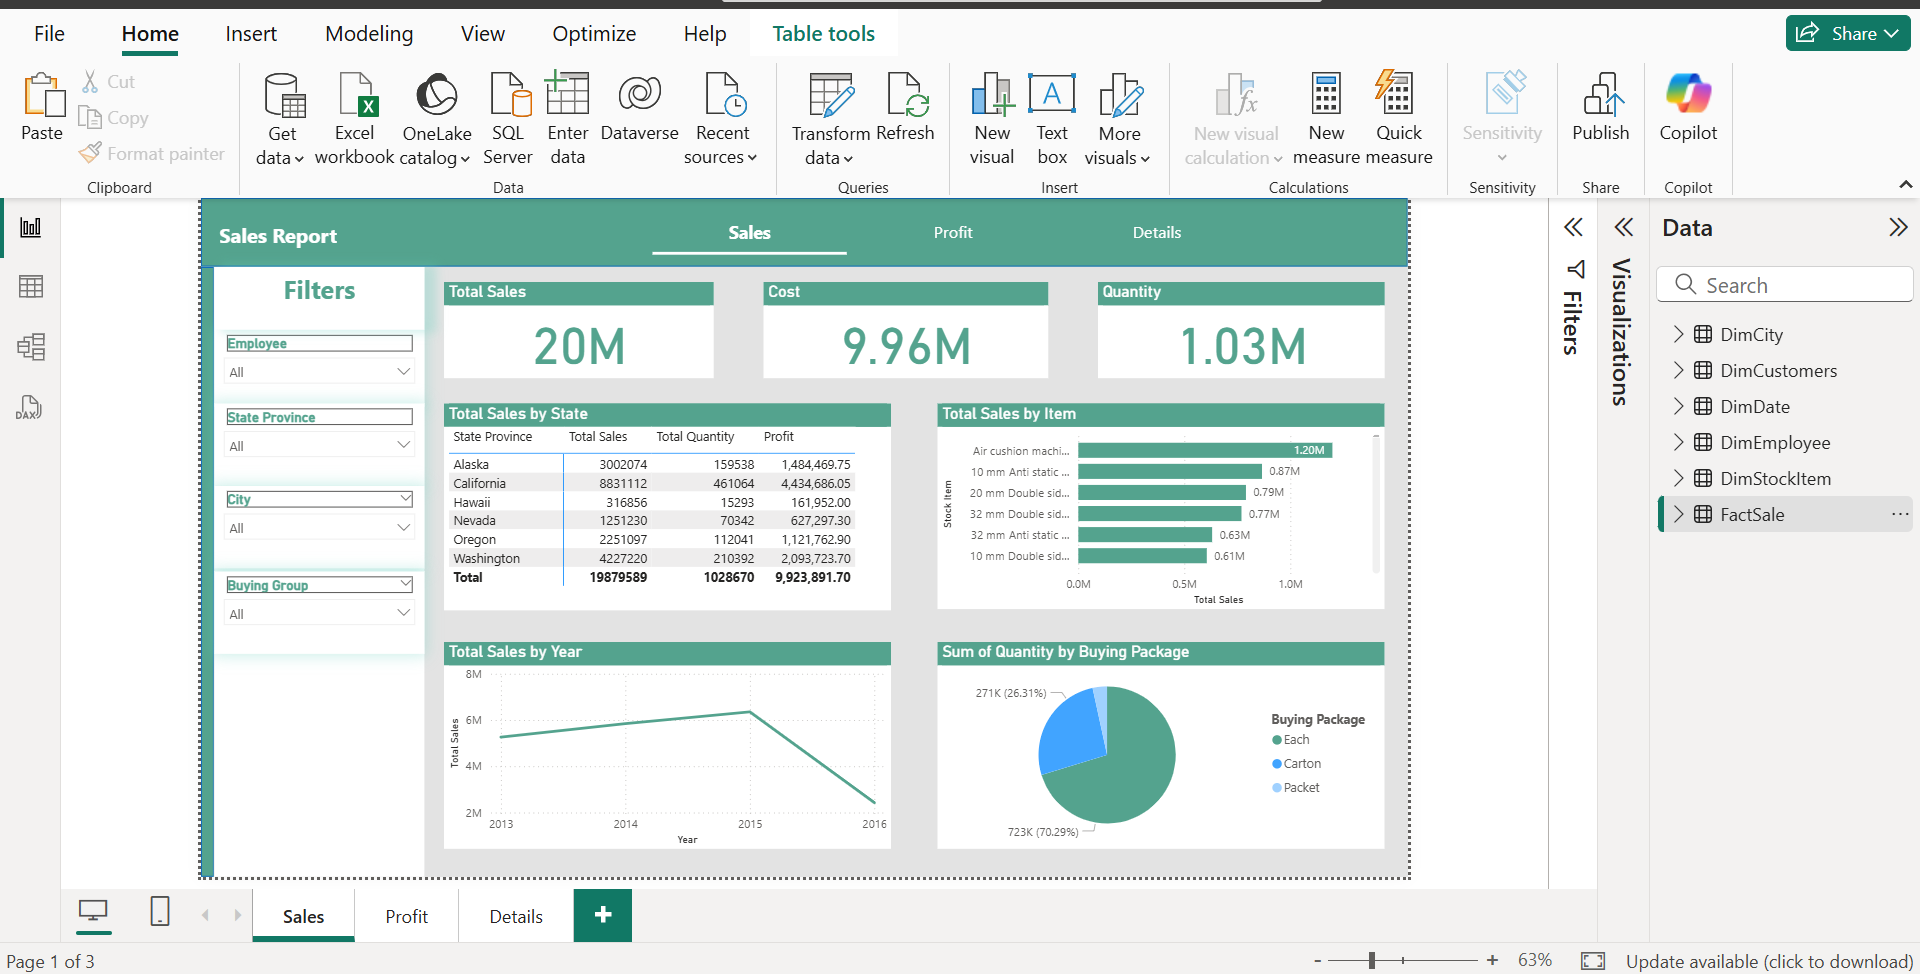

The page's visual inventory and layout, read from the dashboard file:
{"tool":"powerbi","page":{"name":"Sales","canvas":[1280,720],"ordinal":0},"visuals":[{"type":"shape","box":[0,0,1279.5,72.7],"z":0},{"type":"shape","box":[0,72.7,13.6,646.6],"z":1000},{"type":"shape","box":[13.6,72.7,222.6,646.6],"z":2000},{"type":"textbox","box":[14.3,19.1,283.1,39.8],"z":3000},{"type":"card","title":"Total Sales","fields":{"Values":["Sum(FactSale.Total Excluding Tax)"]},"box":[257.7,89.1,286.3,101.8],"z":4000},{"type":"card","title":"Quantity","fields":{"Values":["Sum(FactSale.Quantity)"]},"box":[951.2,89.1,303.8,101.8],"z":5000},{"type":"card","title":"Cost","fields":{"Values":["Sum(FactSale.Cost)"]},"box":[596.5,89.1,302.2,101.8],"z":6000},{"type":"lineChart","fields":{"Category":["DimDate.Date.Variation.Date Hierarchy.Year","DimDate.Date.Variation.Date Hierarchy.Quarter","DimDate.Date.Variation.Date Hierarchy.Month","DimDate.Date.Variation.Date Hierarchy.Day"],"Y":["Sum(FactSale.Total Excluding Tax)"]},"box":[257.7,470.8,474,219.5],"z":7000},{"type":"barChart","title":"Total Sales by Item","fields":{"Y":["Sum(FactSale.Total Excluding Tax)"],"Category":["DimStockItem.Stock Item"]},"box":[781,217.9,474,217.9],"z":8000},{"type":"pivotTable","title":"Total Sales by State","fields":{"Values":["Sum(FactSale.Total Excluding Tax)","Sum(FactSale.Quantity)","Sum(FactSale.Profit)"],"Rows":["DimCity.State Province"]},"box":[257.7,217.9,474,219.5],"z":9000},{"type":"slicer","fields":{"Values":["DimEmployee.Employee"]},"box":[14.3,140,222.7,81.1],"z":10000},{"type":"textbox","box":[14.3,73.2,222.7,66.8],"z":11000},{"type":"slicer","fields":{"Values":["DimCity.State Province"]},"box":[14.3,217.9,222.7,87.5],"z":12000},{"type":"pieChart","fields":{"Category":["DimStockItem.Buying Package"],"Y":["Sum(FactSale.Quantity)"]},"box":[781,470.8,474,219.5],"z":13000},{"type":"slicer","fields":{"Values":["DimCity.City"]},"box":[14.3,305.4,222.7,87.5],"z":14000},{"type":"slicer","fields":{"Values":["DimCustomers.Buying Group"]},"box":[14.3,396.1,222.7,87.5],"z":15000},{"type":"pageNavigator","box":[478.1,11.3,640.6,49.1],"z":15001}]}

Visuals, with their boxes on the page's 1280x720 design canvas (x1, y1, x2, y2). These are canvas units, not pixel positions in the 1920x974 screenshot, which may show the page scaled, cropped or inside an application window:
shape: Rect(0, 0, 1280, 73)
shape: Rect(0, 73, 14, 719)
shape: Rect(14, 73, 236, 719)
textbox: Rect(14, 19, 297, 59)
"Total Sales" card: Rect(258, 89, 544, 191)
"Quantity" card: Rect(951, 89, 1255, 191)
"Cost" card: Rect(596, 89, 899, 191)
lineChart - DimDate.Date.Variation.Date Hierarchy.Year x DimDate.Date.Variation.Date Hierarchy.Quarter: Rect(258, 471, 732, 690)
"Total Sales by Item" barChart: Rect(781, 218, 1255, 436)
"Total Sales by State" pivotTable: Rect(258, 218, 732, 437)
slicer - DimEmployee.Employee: Rect(14, 140, 237, 221)
textbox: Rect(14, 73, 237, 140)
slicer - DimCity.State Province: Rect(14, 218, 237, 305)
pieChart - DimStockItem.Buying Package x Sum(FactSale.Quantity): Rect(781, 471, 1255, 690)
slicer - DimCity.City: Rect(14, 305, 237, 393)
slicer - DimCustomers.Buying Group: Rect(14, 396, 237, 484)
pageNavigator: Rect(478, 11, 1119, 60)
